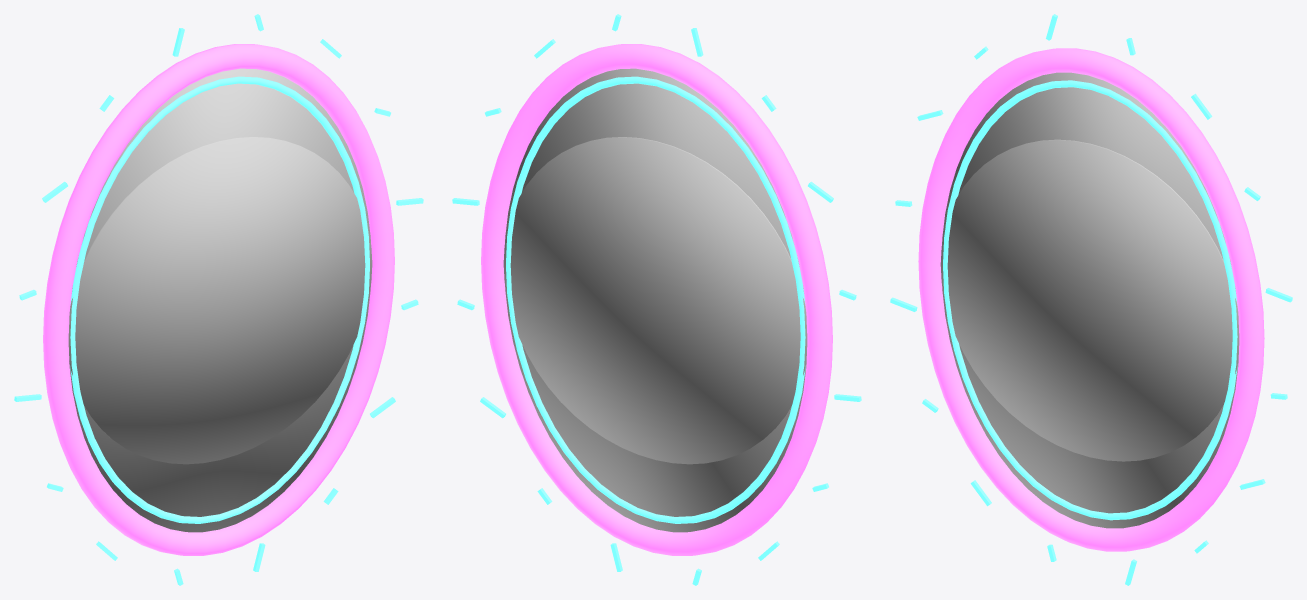
Rendered from Portal_VIP.fbx.
3 renders of one model, left to right at view 1: azimuth 30°, elevation 25°; view 2: azimuth 150°, elevation 25°; view 3: azimuth 330°, elevation 25°, orthographic.
Visible parts, largest first — view 1: PortalVIP_Remolino, PortalVIP_Anillo, PortalVIP_Fondo, PortalVIP_Interior, PortalVIP_Marcas; view 2: PortalVIP_Remolino, PortalVIP_Anillo, PortalVIP_Fondo, PortalVIP_Interior, PortalVIP_Marcas; view 3: PortalVIP_Remolino, PortalVIP_Anillo, PortalVIP_Fondo, PortalVIP_Interior, PortalVIP_Marcas.
Part boxes in pixels (x1,y1,x2,y2): PortalVIP_Remolino: (68,137,372,464); PortalVIP_Anillo: (43,44,394,555); PortalVIP_Fondo: (69,68,370,532); PortalVIP_Interior: (70,76,369,523); PortalVIP_Marcas: (14,14,423,585); PortalVIP_Remolino: (503,137,807,464); PortalVIP_Anillo: (481,44,832,555); PortalVIP_Fondo: (505,68,806,532); PortalVIP_Interior: (506,76,805,523); PortalVIP_Marcas: (452,14,861,585); PortalVIP_Remolino: (940,139,1239,461); PortalVIP_Anillo: (918,48,1264,551); PortalVIP_Fondo: (942,72,1238,528); PortalVIP_Interior: (943,80,1237,520); PortalVIP_Marcas: (890,14,1292,585).
Bounding box in the file's own units: 5.49 × 7.23 × 0.2853.
